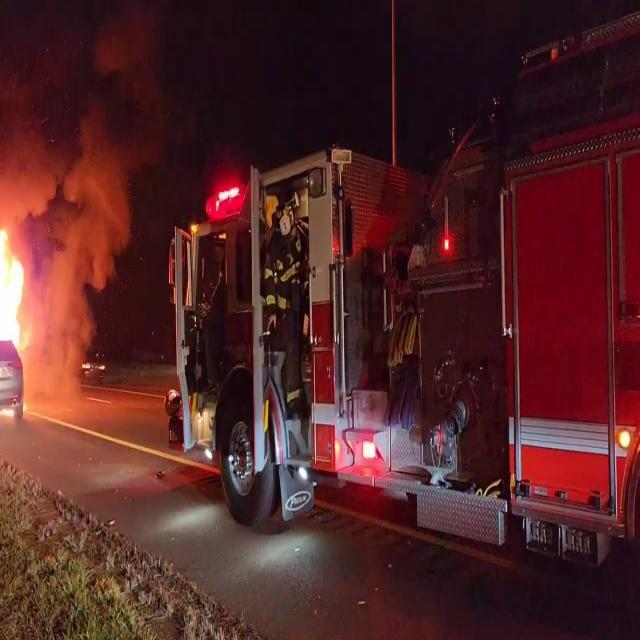Fire: (0, 215, 37, 389)
Smoke: (0, 2, 158, 271)
